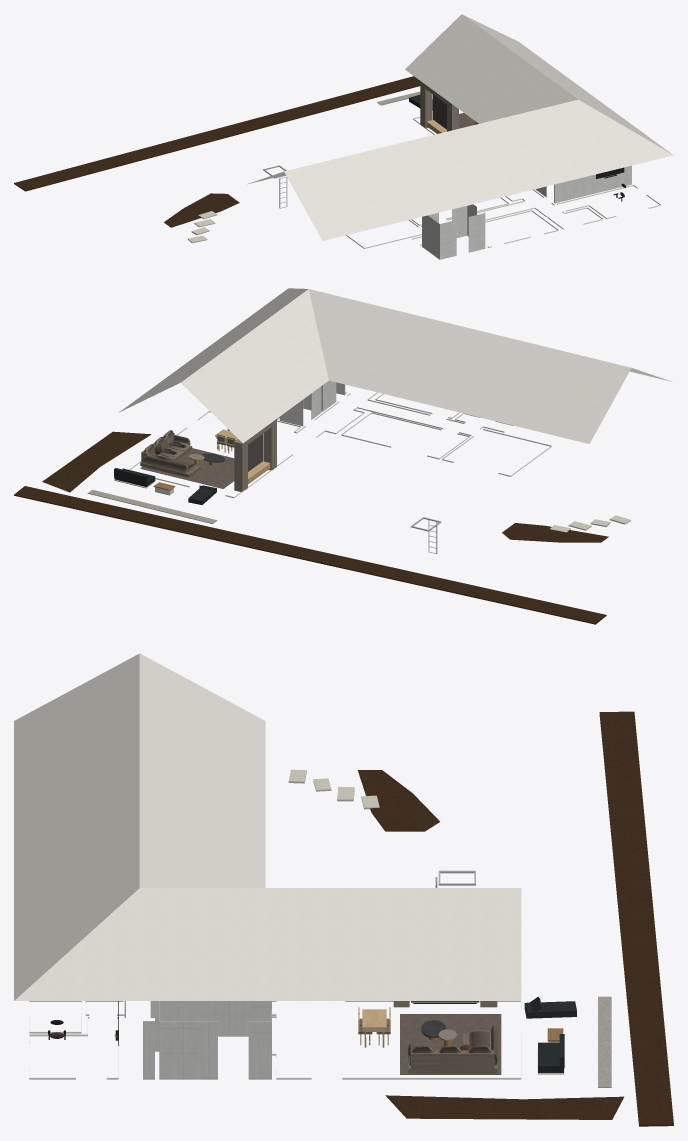
The model's file is dom-interior-04.glb.
3 views of the same model, one above another, from view 1: azimuth 30°, elevation 25°; view 2: azimuth 150°, elevation 25°; view 3: azimuth 270°, elevation 25° (orthographic). The views are drawn at different scales.
Visible parts, largest first — view 1: DOM_01357 | Súvislý podhľad strešnej roviny · MAIN_FRONT, DOM_01359 | Súvislý podhľad strešnej roviny · WING_INNER, DOM_01562 | Zadná hranica · zapustený mulčovací pás, DOM_01360 | Súvislý podhľad strešnej roviny · WING_OUTER, DOM_01691 | Mulčovaný trvalkový záhon 1 · ilustračný koncept, DOM_01321 | 1.05 · keramický obklad v. 2 100 juh 1, DOM_01347 | 1.11 · keramický obklad v. 2 100 juh 2, DOM_01346 | 1.11 · keramický obklad v. 2 100 juh 1, DOM_01350 | 1.11 · keramický obklad v. 2 100 západ 1, DOM_01326 | 1.05 · keramický obklad v. 2 100 juh 1, DOM_01176 | LIVING-103-TV-WALL · vysoká bezúchytková skriňa , DOM_01349 | 1.11 · keramický obklad v. 2 100 sever 2; view 2: DOM_01358 | Súvislý podhľad strešnej roviny · MAIN_GARDEN, DOM_01359 | Súvislý podhľad strešnej roviny · WING_INNER, DOM_01562 | Zadná hranica · zapustený mulčovací pás, DOM_01360 | Súvislý podhľad strešnej roviny · WING_OUTER, DOM_01692 | Mulčovaný trvalkový záhon 2 · ilustračný koncept, DOM_01188 | LIVING-103-SOFA-L · ručne tkaný greige koberec, DOM_01691 | Mulčovaný trvalkový záhon 1 · ilustračný koncept, DOM_01686 | Kačírek · severný štít, DOM_01176 | LIVING-103-TV-WALL · vysoká bezúchytková skriňa , DOM_01173 | LIVING-103-TV-WALL · vysoká bezúchytková skriňa ; view 3: DOM_01360 | Súvislý podhľad strešnej roviny · WING_OUTER, DOM_01357 | Súvislý podhľad strešnej roviny · MAIN_FRONT, DOM_01358 | Súvislý podhľad strešnej roviny · MAIN_GARDEN, DOM_01562 | Zadná hranica · zapustený mulčovací pás, DOM_01692 | Mulčovaný trvalkový záhon 2 · ilustračný koncept, DOM_01691 | Mulčovaný trvalkový záhon 1 · ilustračný koncept, DOM_01188 | LIVING-103-SOFA-L · ručne tkaný greige koberec, DOM_01343 | 1.07 · keramický obklad v. 2 100 východ 1, DOM_01335 | 1.07 · keramický obklad v. 2 100 západ 1, DOM_01340 | 1.07 · keramický obklad v. 2 100 východ 2, DOM_01191 | LIVING-103-SOFA-L · mäkké chrbtové jadro, DOM_01686 | Kačírek · severný štít (+5 smaller).
Boxes of the visible parts, x1,y1,x2,y2 form: DOM_01357 | Súvislý podhľad strešnej roviny · MAIN_FRONT: [284, 99, 673, 240]; DOM_01359 | Súvislý podhľad strešnej roviny · WING_INNER: [405, 14, 577, 123]; DOM_01562 | Zadná hranica · zapustený mulčovací pás: [14, 76, 420, 191]; DOM_01360 | Súvislý podhľad strešnej roviny · WING_OUTER: [462, 14, 671, 153]; DOM_01691 | Mulčovaný trvalkový záhon 1 · ilustračný koncept: [164, 193, 239, 227]; DOM_01321 | 1.05 · keramický obklad v. 2 100 juh 1: [554, 174, 597, 203]; DOM_01347 | 1.11 · keramický obklad v. 2 100 juh 2: [468, 213, 485, 252]; DOM_01346 | 1.11 · keramický obklad v. 2 100 juh 1: [439, 220, 456, 259]; DOM_01350 | 1.11 · keramický obklad v. 2 100 západ 1: [422, 215, 439, 259]; DOM_01326 | 1.05 · keramický obklad v. 2 100 juh 1: [597, 165, 631, 192]; DOM_01176 | LIVING-103-TV-WALL · vysoká bezúchytková skriňa : [420, 81, 432, 128]; DOM_01349 | 1.11 · keramický obklad v. 2 100 sever 2: [452, 206, 467, 237]; DOM_01358 | Súvislý podhľad strešnej roviny · MAIN_GARDEN: [309, 289, 631, 443]; DOM_01359 | Súvislý podhľad strešnej roviny · WING_INNER: [181, 289, 328, 443]; DOM_01562 | Zadná hranica · zapustený mulčovací pás: [14, 486, 606, 624]; DOM_01360 | Súvislý podhľad strešnej roviny · WING_OUTER: [119, 288, 308, 412]; DOM_01692 | Mulčovaný trvalkový záhon 2 · ilustračný koncept: [42, 431, 151, 492]; DOM_01188 | LIVING-103-SOFA-L · ručne tkaný greige koberec: [140, 448, 234, 488]; DOM_01691 | Mulčovaný trvalkový záhon 1 · ilustračný koncept: [502, 523, 608, 542]; DOM_01686 | Kačírek · severný štít: [87, 490, 217, 523]; DOM_01176 | LIVING-103-TV-WALL · vysoká bezúchytková skriňa : [234, 439, 247, 491]; DOM_01173 | LIVING-103-TV-WALL · vysoká bezúchytková skriňa : [263, 419, 276, 470]; DOM_01360 | Súvislý podhľad strešnej roviny · WING_OUTER: [14, 888, 521, 1000]; DOM_01357 | Súvislý podhľad strešnej roviny · MAIN_FRONT: [14, 653, 139, 1000]; DOM_01358 | Súvislý podhľad strešnej roviny · MAIN_GARDEN: [139, 653, 265, 887]; DOM_01562 | Zadná hranica · zapustený mulčovací pás: [599, 711, 673, 1126]; DOM_01692 | Mulčovaný trvalkový záhon 2 · ilustračný koncept: [385, 1095, 623, 1119]; DOM_01691 | Mulčovaný trvalkový záhon 1 · ilustračný koncept: [357, 770, 439, 831]; DOM_01188 | LIVING-103-SOFA-L · ručne tkaný greige koberec: [400, 1014, 501, 1074]; DOM_01343 | 1.07 · keramický obklad v. 2 100 východ 1: [159, 1021, 201, 1079]; DOM_01335 | 1.07 · keramický obklad v. 2 100 západ 1: [201, 1001, 250, 1036]; DOM_01340 | 1.07 · keramický obklad v. 2 100 východ 2: [248, 1021, 271, 1079]; DOM_01191 | LIVING-103-SOFA-L · mäkké chrbtové jadro: [411, 1050, 494, 1069]; DOM_01686 | Kačírek · severný štít: [598, 996, 611, 1087].
Bounding box in the file's own units: 31.9 × 7.33 × 21.51.
Materials: 22 (9 with a texture image).
